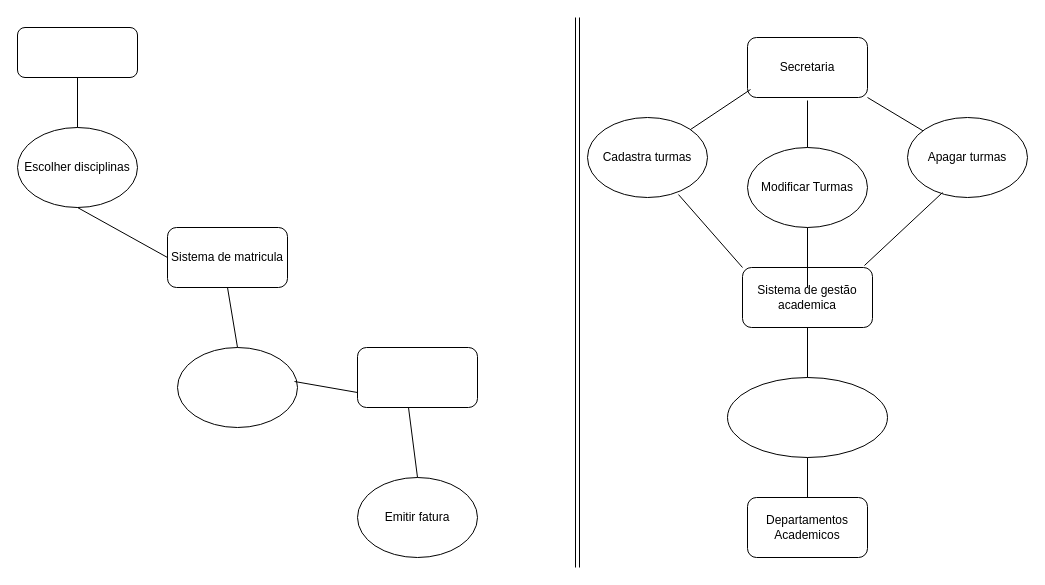
The diagram is 1045 pixels wide and 585 high, and some of its shapes have lost their labels. Here are the shapes that lost their labels. From the top down, the centre of each, then its label:
At (x=77, y=52): "Aluno".
At (x=237, y=387): "Alocar aluno na turma".
At (x=417, y=377): "Sistema de faturamento".
At (x=807, y=417): "Enviar informações das turmas aos departamentos academicos".
